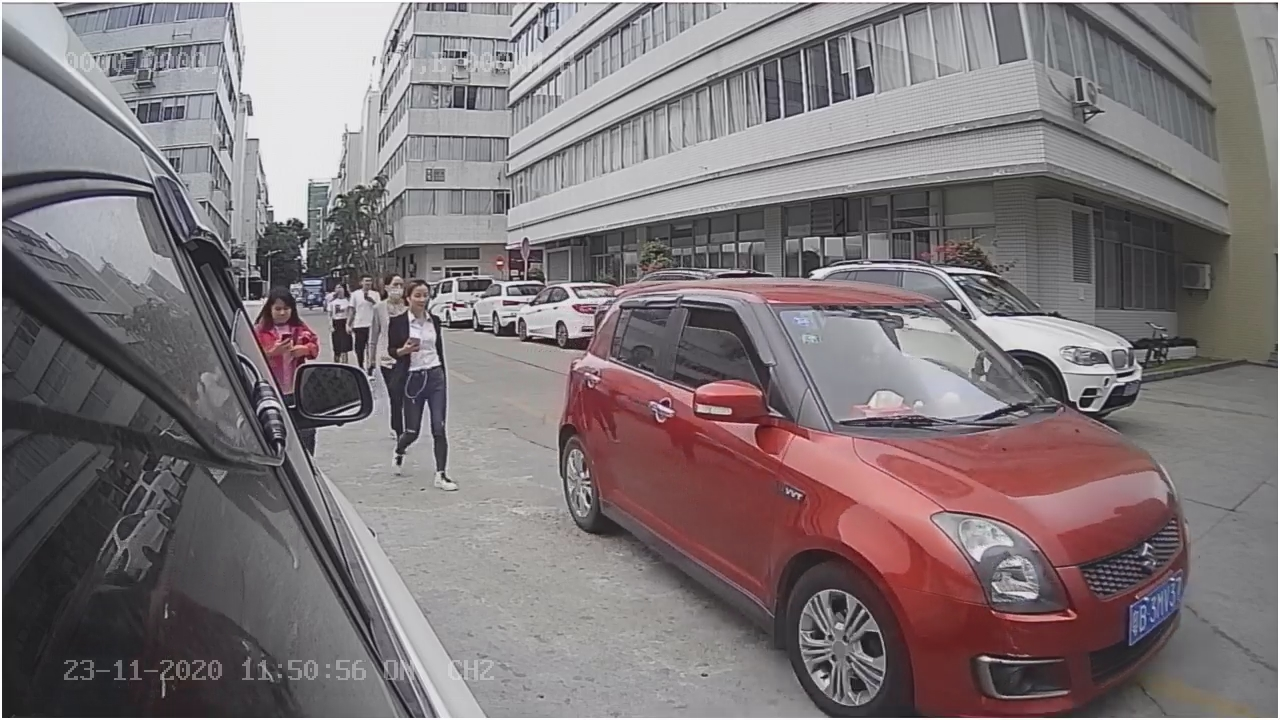person: (388, 274, 476, 493)
